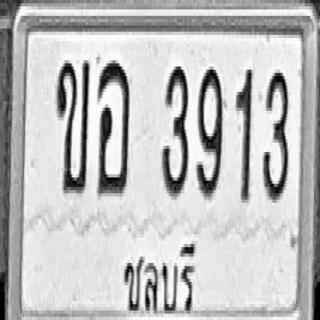A02: (56, 57, 89, 193)
A43: (97, 60, 129, 193)
N01: (236, 65, 252, 201)
N03: (162, 64, 188, 196), (263, 70, 288, 200)
N09: (196, 65, 222, 198)
P13: (118, 226, 201, 320)
